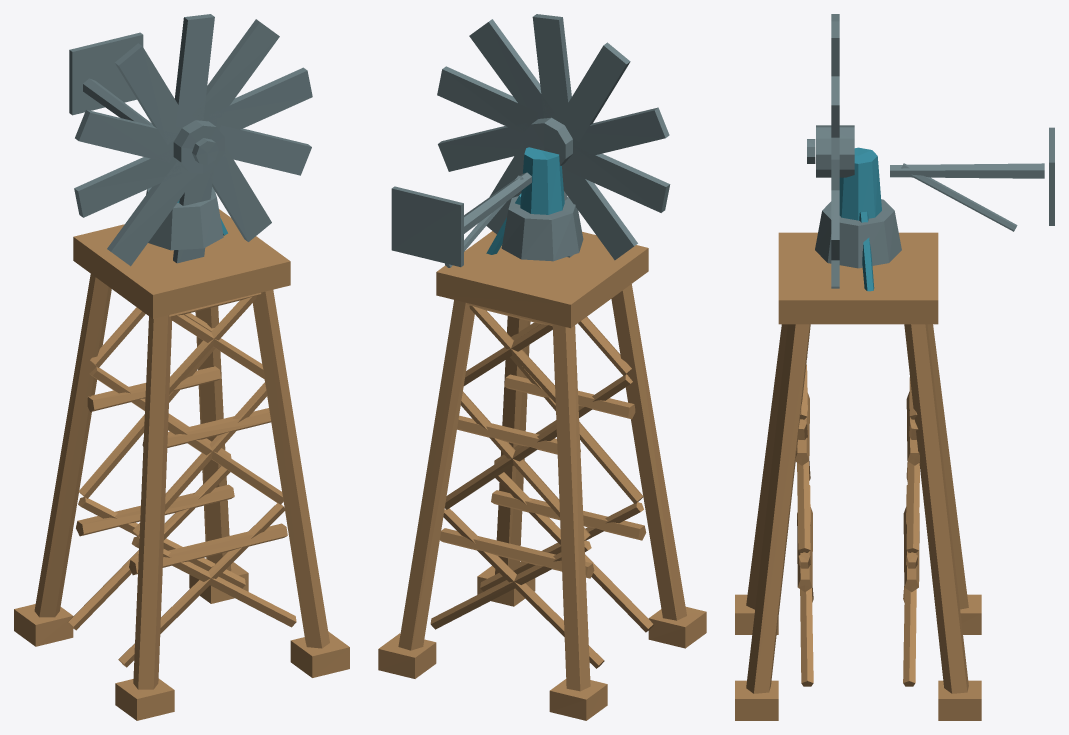
File: wind-pump.source.glb
3 renders of one model, left to right at view 1: azimuth 30°, elevation 25°; view 2: azimuth 150°, elevation 25°; view 3: azimuth 270°, elevation 25°, orthographic. The views are drawn at different scales.
Visible parts, largest first — view 1: wind-pump-platform-deck-mesh, wind-pump-tower-leg-3-mesh, wind-pump-tower-leg-4-mesh, wind-pump-tower-leg-1-mesh, wind-pump-tail-vane-mesh, wind-pump-blade-01-mesh, wind-pump-blade-05-mesh, wind-pump-blade-10-mesh, wind-pump-blade-04-mesh, wind-pump-blade-03-mesh, wind-pump-tower-leg-2-mesh, wind-pump-blade-09-mesh (+27 smaller); view 2: wind-pump-platform-deck-mesh, wind-pump-tower-leg-1-mesh, wind-pump-tower-leg-2-mesh, wind-pump-tower-leg-3-mesh, wind-pump-tail-vane-mesh, wind-pump-head-base-mesh, wind-pump-blade-01-mesh, wind-pump-blade-04-mesh, wind-pump-blade-09-mesh, wind-pump-blade-10-mesh, wind-pump-tower-leg-4-mesh, wind-pump-blade-02-mesh (+26 smaller); view 3: wind-pump-platform-deck-mesh, wind-pump-tower-leg-2-mesh, wind-pump-tower-leg-4-mesh, wind-pump-head-base-mesh, wind-pump-tower-leg-3-mesh, wind-pump-head-neck-mesh, wind-pump-tower-leg-1-mesh, wind-pump-tail-boom-mesh, wind-pump-rotor-hub-mesh, wind-pump-foot-block-4-mesh, wind-pump-foot-block-2-mesh, wind-pump-rear-brace-b-1-mesh (+12 smaller).
Part boxes in pixels (x1,y1,x2,y2): wind-pump-platform-deck-mesh: [73, 209, 290, 318]; wind-pump-tower-leg-3-mesh: [133, 315, 172, 689]; wind-pump-tower-leg-4-mesh: [252, 290, 329, 648]; wind-pump-tower-leg-1-mesh: [34, 274, 111, 617]; wind-pump-tail-vane-mesh: [69, 32, 143, 115]; wind-pump-blade-01-mesh: [174, 14, 214, 126]; wind-pump-blade-05-mesh: [107, 162, 198, 266]; wind-pump-blade-10-mesh: [193, 19, 279, 124]; wind-pump-blade-04-mesh: [74, 150, 181, 217]; wind-pump-blade-03-mesh: [75, 109, 177, 162]; wind-pump-tower-leg-2-mesh: [195, 306, 231, 570]; wind-pump-blade-09-mesh: [209, 67, 312, 129]; wind-pump-platform-deck-mesh: [436, 231, 648, 328]; wind-pump-tower-leg-1-mesh: [552, 324, 590, 691]; wind-pump-tower-leg-2-mesh: [398, 300, 474, 650]; wind-pump-tower-leg-3-mesh: [611, 284, 686, 620]; wind-pump-tail-vane-mesh: [391, 186, 463, 267]; wind-pump-head-base-mesh: [501, 196, 583, 261]; wind-pump-blade-01-mesh: [532, 14, 571, 124]; wind-pump-blade-04-mesh: [565, 145, 670, 212]; wind-pump-blade-09-mesh: [437, 66, 537, 133]; wind-pump-blade-10-mesh: [469, 19, 554, 120]; wind-pump-tower-leg-4-mesh: [495, 316, 530, 574]; wind-pump-blade-02-mesh: [562, 42, 630, 141]; wind-pump-platform-deck-mesh: [778, 232, 938, 324]; wind-pump-tower-leg-2-mesh: [904, 324, 968, 693]; wind-pump-tower-leg-4-mesh: [746, 324, 810, 693]; wind-pump-head-base-mesh: [815, 199, 901, 268]; wind-pump-tower-leg-3-mesh: [746, 324, 787, 609]; wind-pump-head-neck-mesh: [839, 147, 881, 220]; wind-pump-tower-leg-1-mesh: [927, 324, 968, 609]; wind-pump-tail-boom-mesh: [890, 163, 1044, 178]; wind-pump-rotor-hub-mesh: [816, 125, 854, 177]; wind-pump-foot-block-4-mesh: [735, 680, 778, 720]; wind-pump-foot-block-2-mesh: [938, 680, 981, 720]; wind-pump-rear-brace-b-1-mesh: [903, 485, 916, 686].
Bounding box in the file's own units: 1.12 × 2.94 × 1.32.
